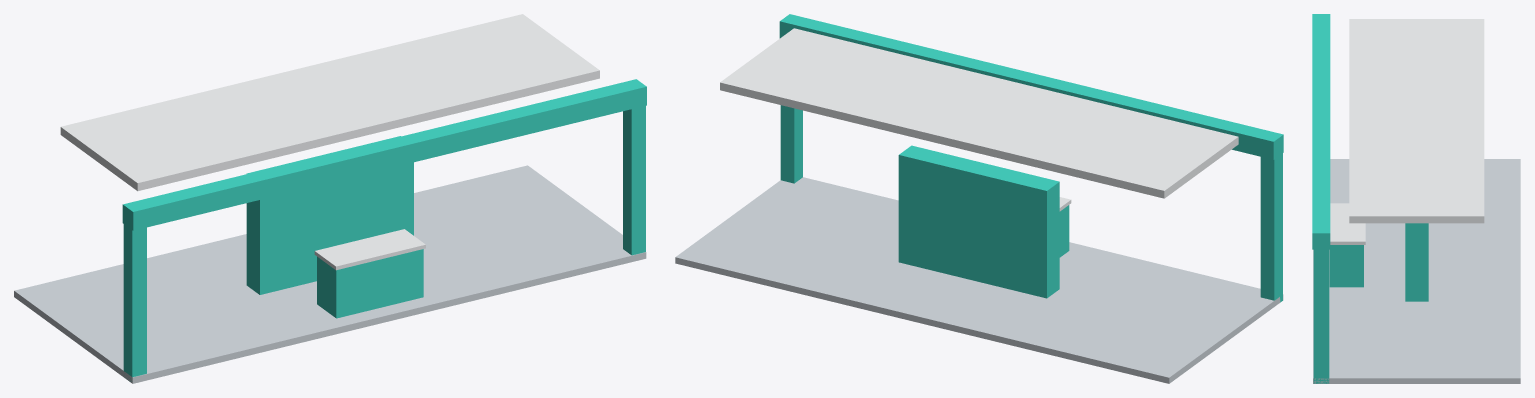
3 views of the same model, side by side, from view 1: azimuth 30°, elevation 25°; view 2: azimuth 150°, elevation 25°; view 3: azimuth 270°, elevation 25° (orthographic). The views are drawn at different scales.
Parts seen in each view (by area): view 1: Exhibition Booth Concept; view 2: Exhibition Booth Concept; view 3: Exhibition Booth Concept.
Part boxes in pixels (bbox=[...]): Exhibition Booth Concept: bbox=[14, 14, 646, 383]; Exhibition Booth Concept: bbox=[675, 14, 1283, 383]; Exhibition Booth Concept: bbox=[1312, 14, 1520, 383].
Size of the model in its own units: 10 by 3.34 by 4.02.
